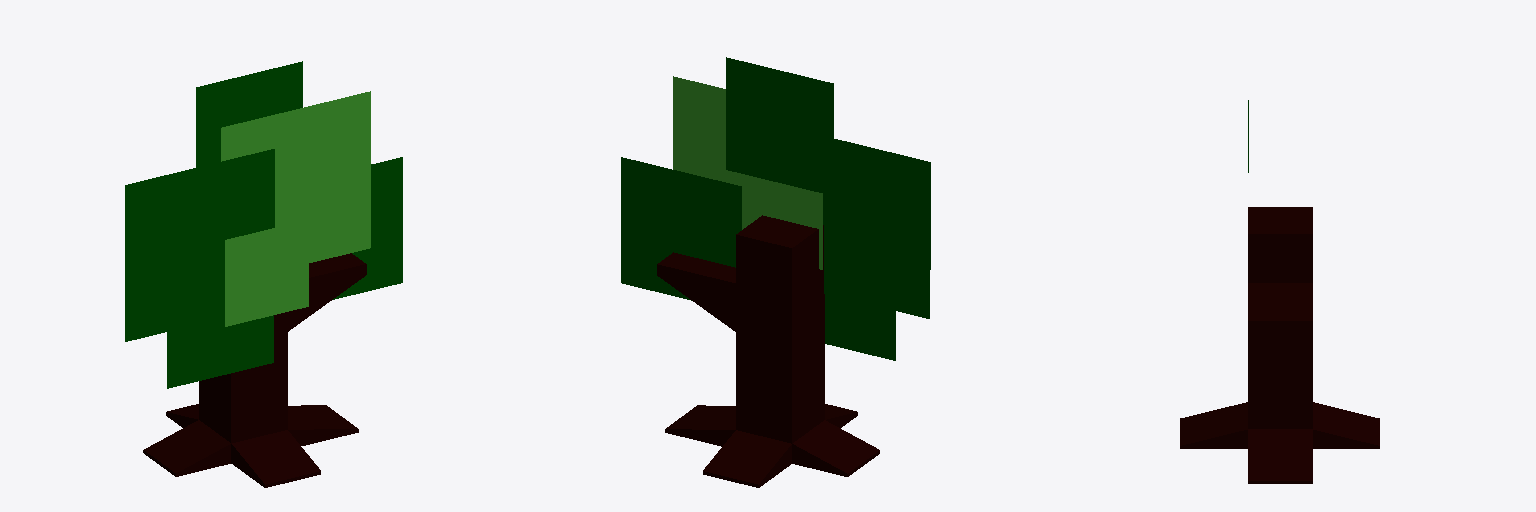
File: wood.obj
3 views of the same model, side by side, from view 1: azimuth 30°, elevation 25°; view 2: azimuth 150°, elevation 25°; view 3: azimuth 270°, elevation 25° (orthographic).
Visible parts, largest first — view 1: Cube, Cube.001; view 2: Cube, Cube.001; view 3: Cube.
Part boxes in pixels (bbox=[...]): Cube: bbox=[143, 91, 402, 487]; Cube.001: bbox=[125, 61, 302, 388]; Cube: bbox=[621, 76, 879, 487]; Cube.001: bbox=[726, 57, 930, 360]; Cube: bbox=[1180, 207, 1379, 483].
Size of the model in its own units: 4.26 by 5.16 by 2.5.